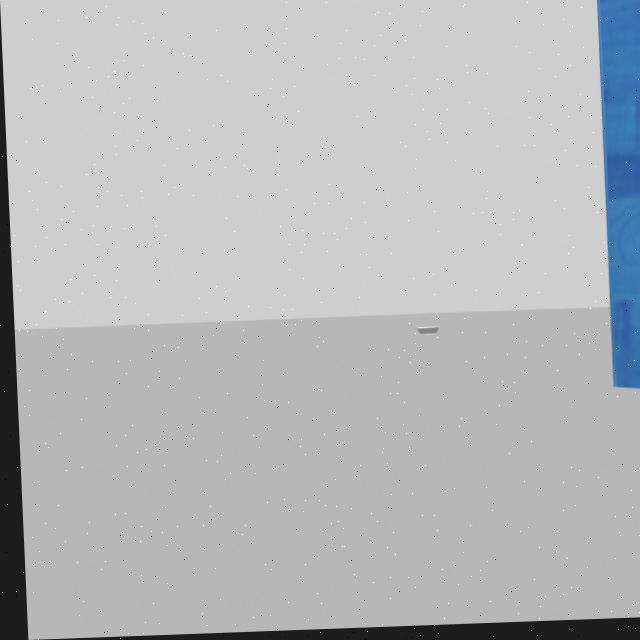bowl: (411, 318, 444, 346)
shelf: (587, 0, 640, 412)
